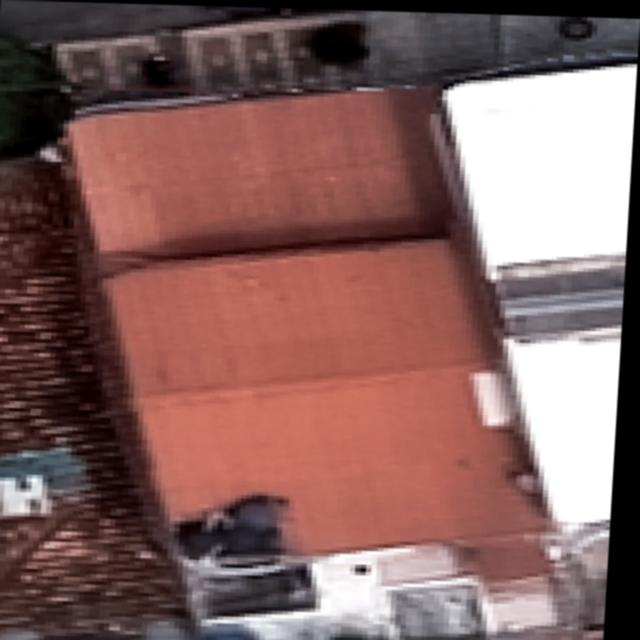Batiment: (66, 90, 547, 552), (447, 63, 638, 261), (512, 338, 625, 517)
